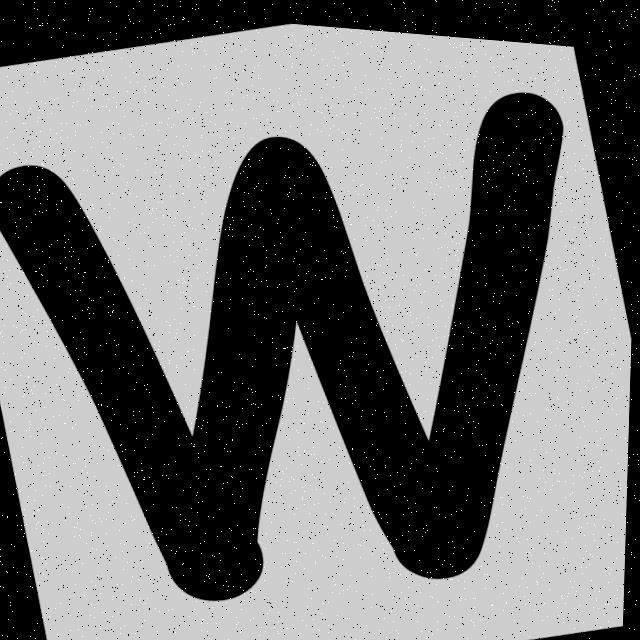W: (0, 83, 563, 596)
